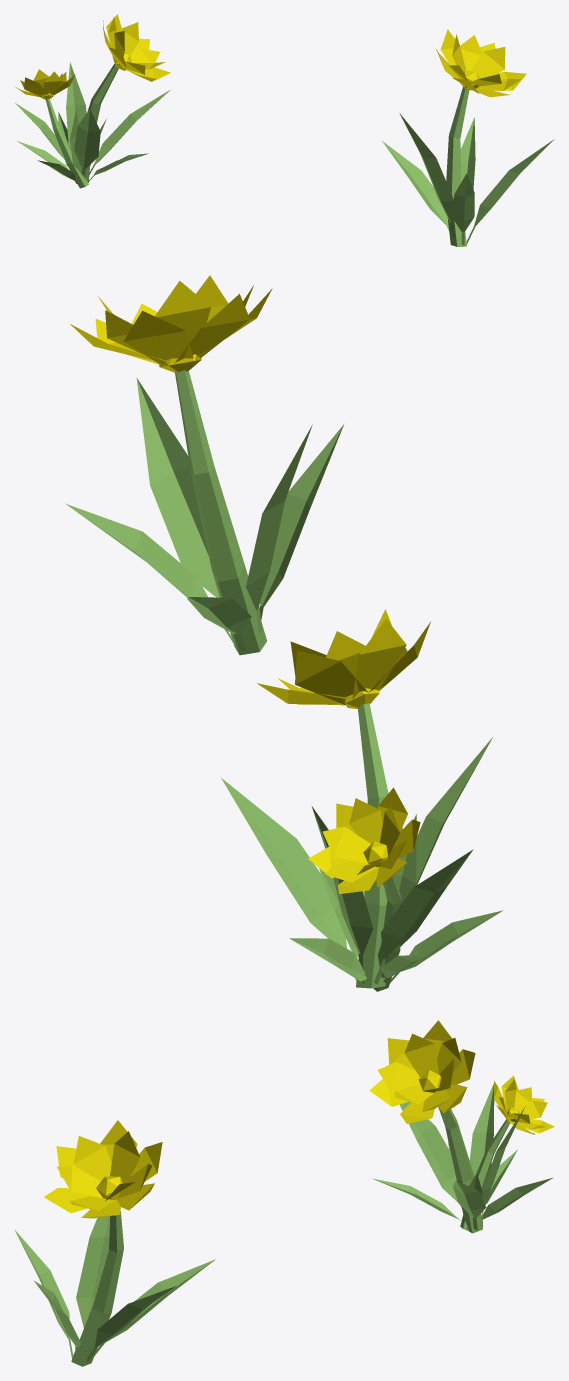
File: FlowerYellow04.fbx
3 renders of one model, top to bottom at view 1: azimuth 30°, elevation 25°; view 2: azimuth 150°, elevation 25°; view 3: azimuth 270°, elevation 25°, orthographic. The views are drawn at different scales.
Visible parts, largest first — view 1: Circle.534; view 2: Circle.534; view 3: Circle.534.
Part boxes in pixels (x1=…): Circle.534: x1=15, y1=14, x2=554, y2=246; Circle.534: x1=65, y1=275, x2=503, y2=991; Circle.534: x1=14, y1=1020, x2=554, y2=1366.
Bounding box in the file's own units: 56.18 × 29.73 × 59.92.
